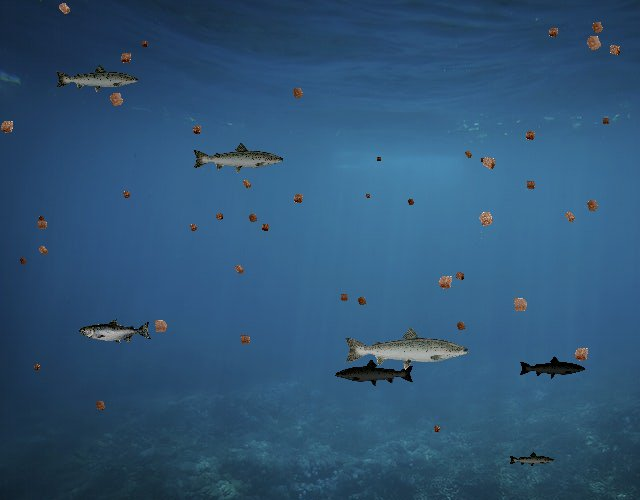Fish: (342, 325, 471, 371), (191, 141, 285, 175), (54, 63, 140, 94), (334, 358, 415, 387), (80, 319, 153, 345), (518, 356, 586, 380), (508, 451, 555, 468)
Pellet: (431, 268, 460, 297), (567, 340, 595, 368), (475, 150, 502, 177), (580, 193, 604, 217), (52, 0, 77, 21), (288, 188, 309, 209), (451, 316, 470, 335), (30, 360, 44, 374)
